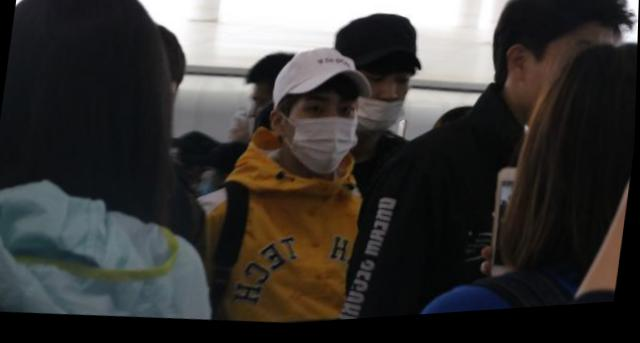OK: (286, 90, 365, 172)
WRONG: (349, 64, 418, 134)
